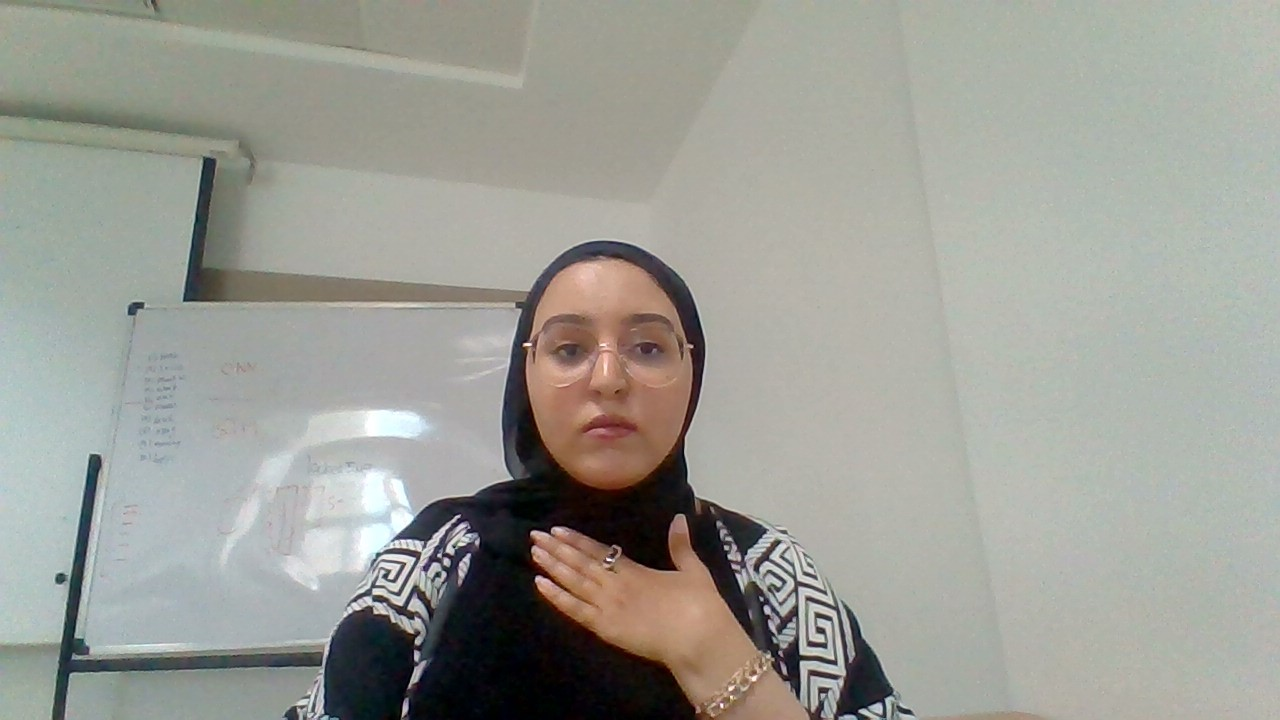please: (515, 501, 739, 664)
